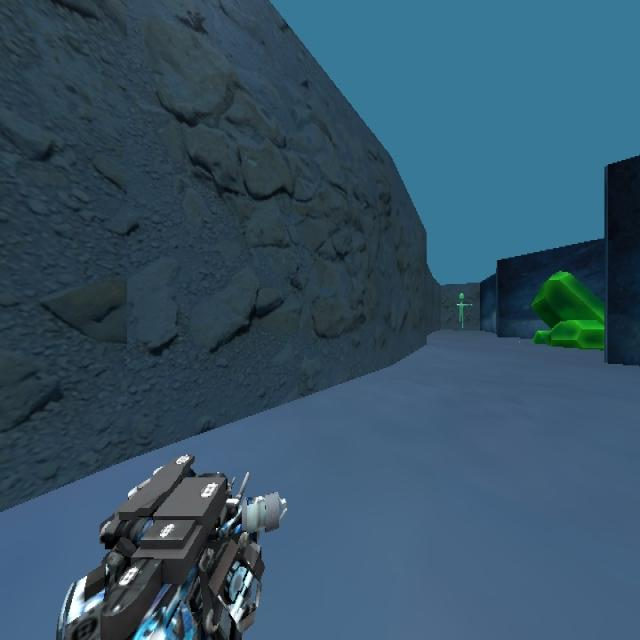Alien: (451, 286, 478, 336)
Diamon: (530, 268, 604, 351)
Stop_Sign: (603, 152, 639, 365)
